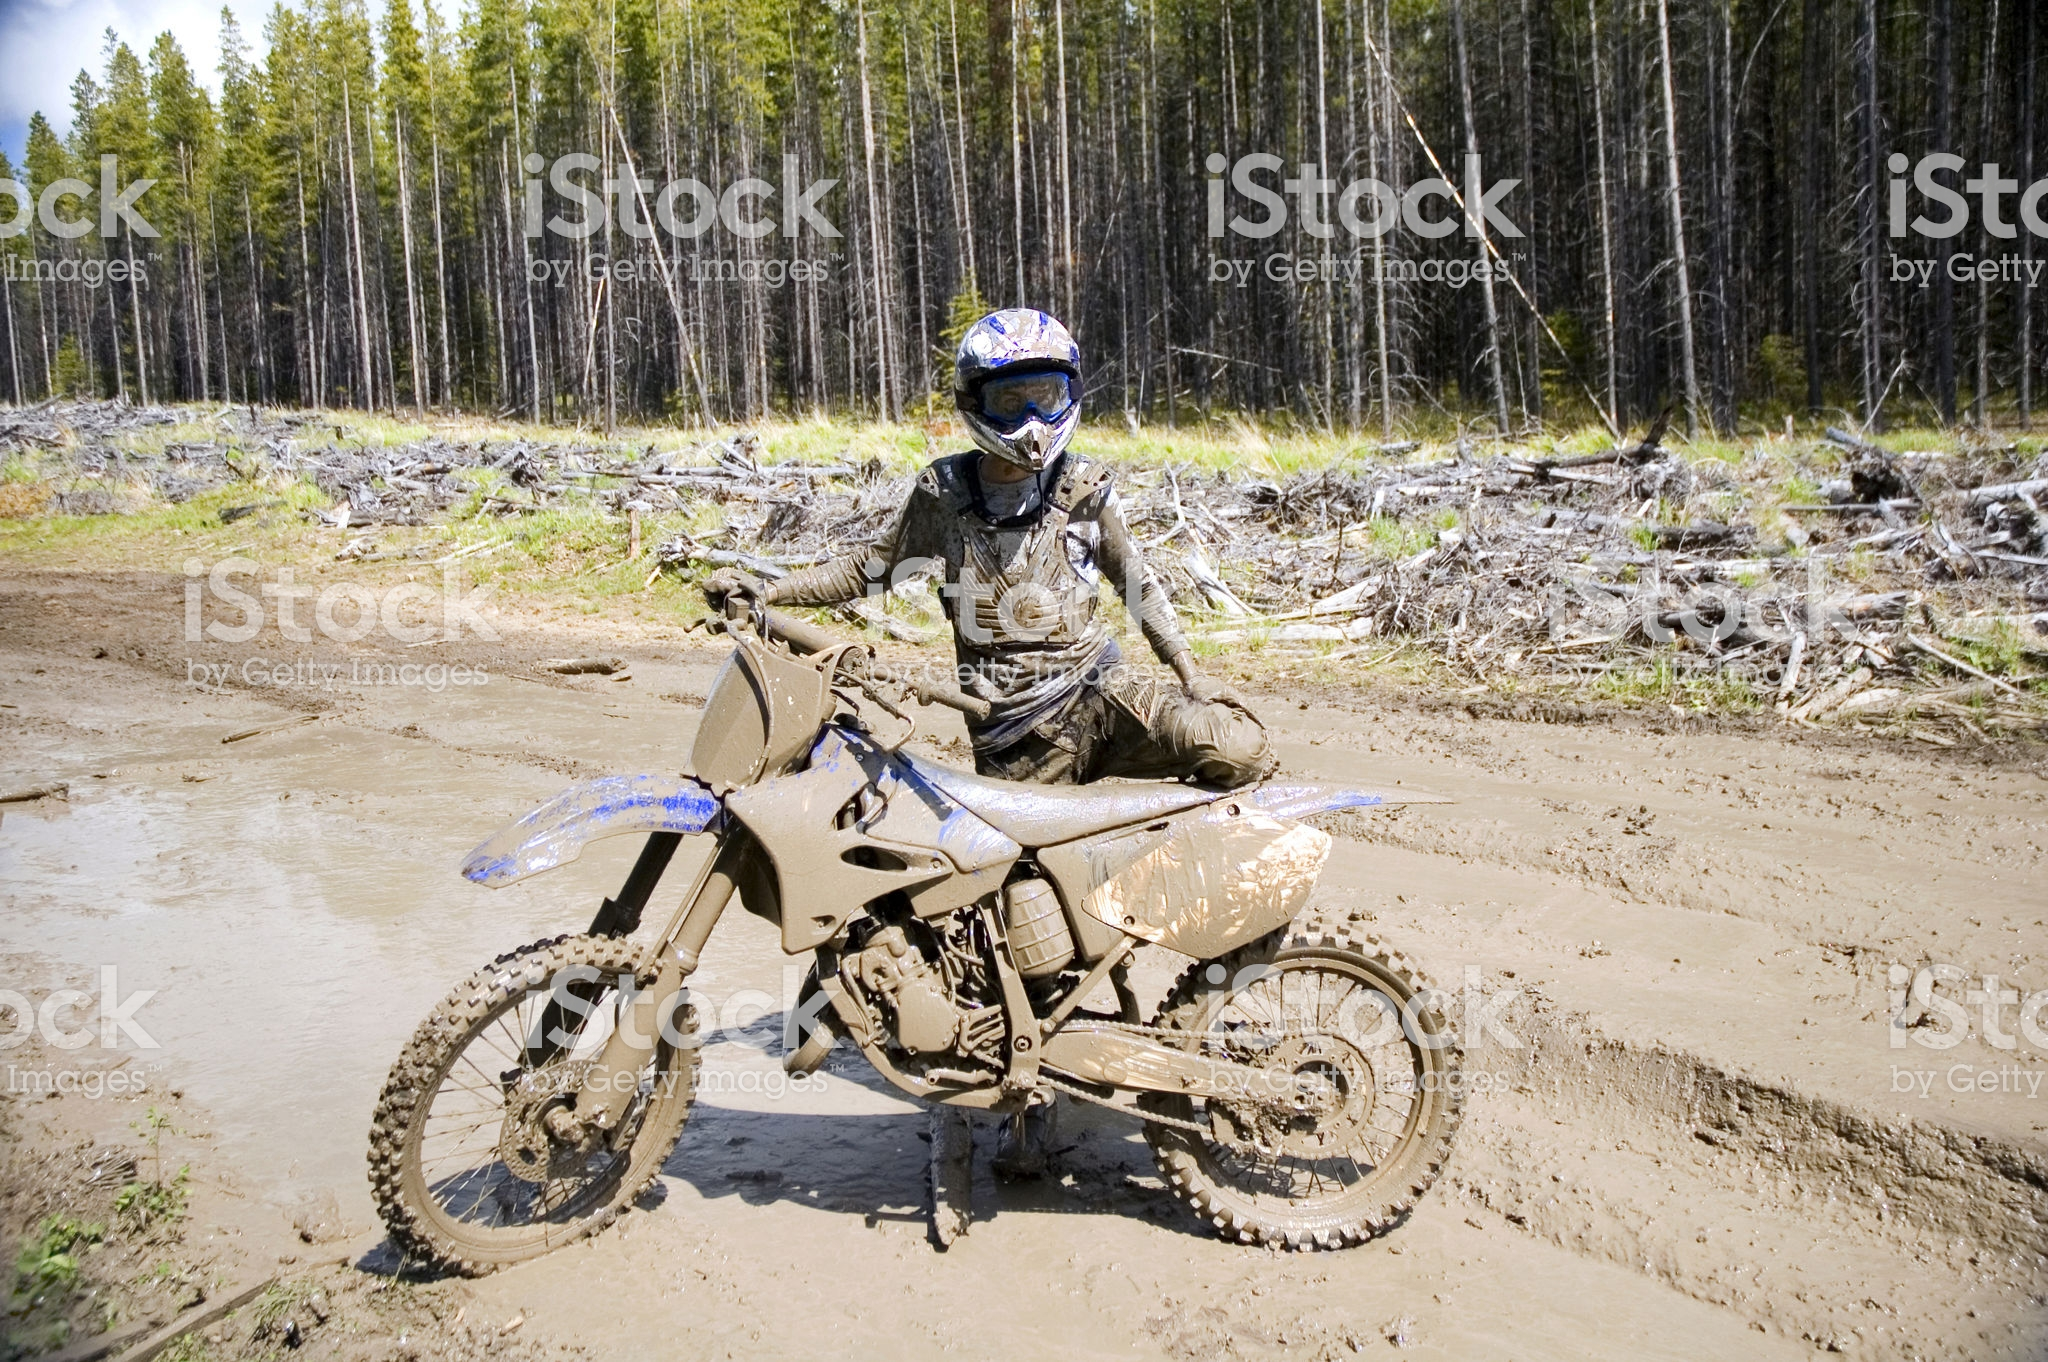helmet: (937, 293, 1120, 496)
